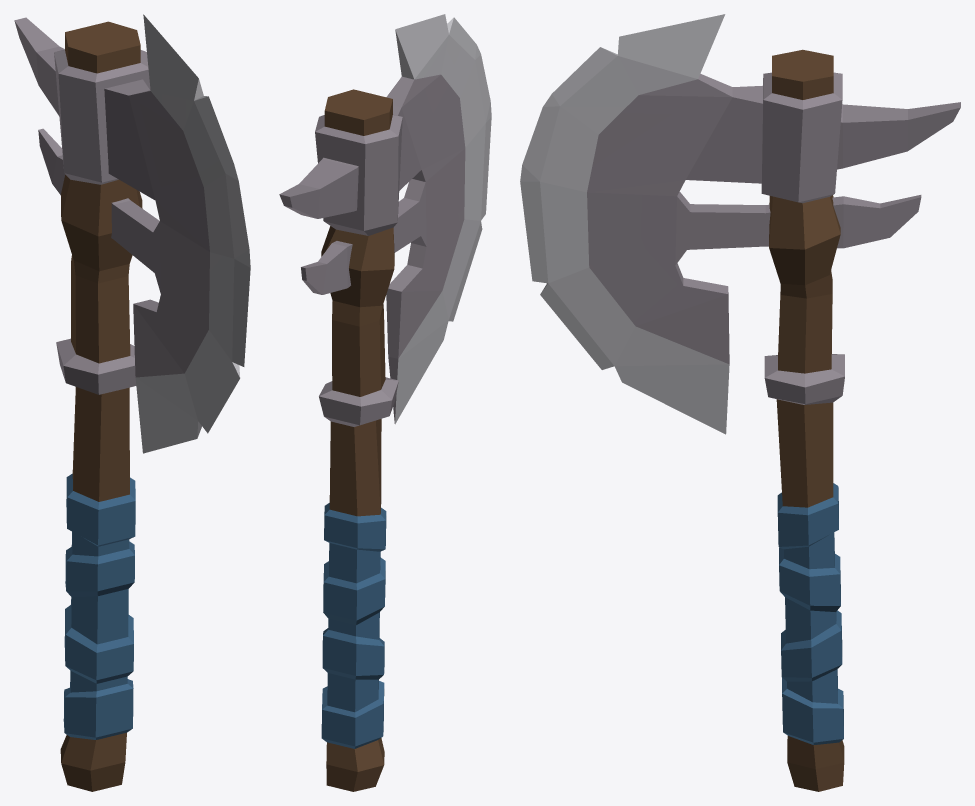
Rendered from Bijl.fbx.
The picture shows the model from 3 angles, left to right: view 1: azimuth 30°, elevation 25°; view 2: azimuth 150°, elevation 25°; view 3: azimuth 270°, elevation 25°; orthographic projection. The views are drawn at different scales.
Visible parts, largest first — view 1: Bijl; view 2: Bijl; view 3: Bijl.
Part boxes in pixels (bbox=[...]): Bijl: bbox=[14, 14, 250, 791]; Bijl: bbox=[279, 14, 491, 791]; Bijl: bbox=[520, 14, 960, 791].
Size of the model in its own units: 6.78 by 59.19 by 30.58.
